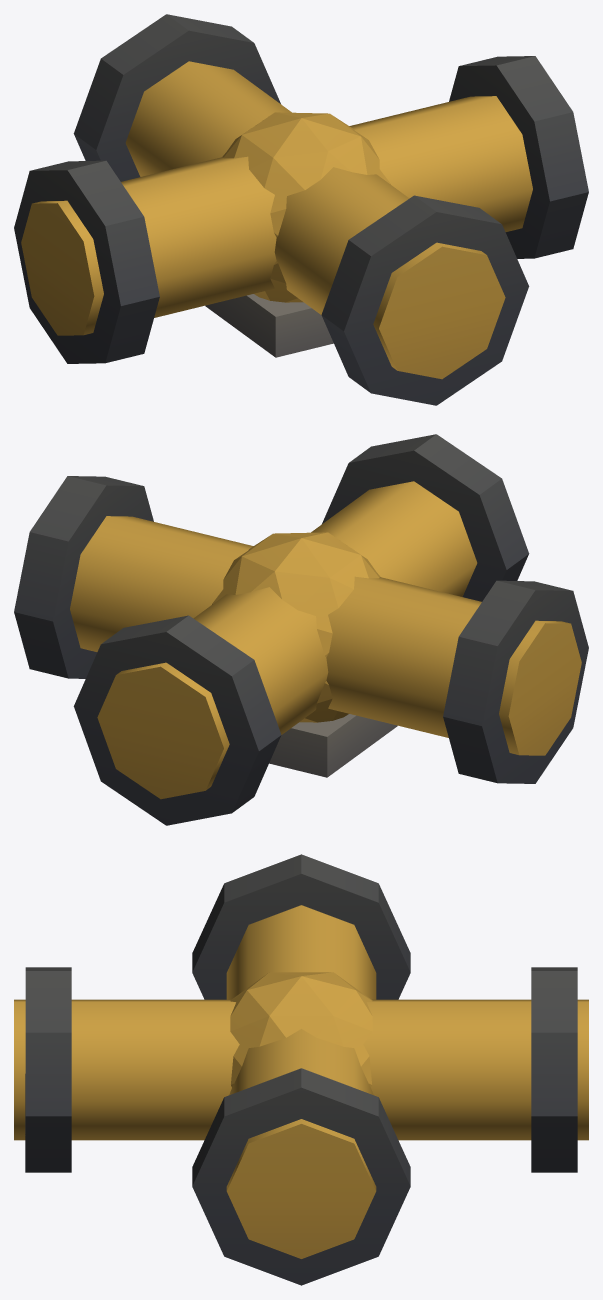
File: logi_pipe_straight.glb
The picture shows the model from 3 angles, top to bottom: view 1: azimuth 30°, elevation 25°; view 2: azimuth 150°, elevation 25°; view 3: azimuth 270°, elevation 25°; orthographic projection. The views are drawn at different scales.
Visible parts, largest first — view 1: logi_pipe_straight; view 2: logi_pipe_straight; view 3: logi_pipe_straight.
Part boxes in pixels (x1,y1,x2,y2): logi_pipe_straight: (14,14,588,405); logi_pipe_straight: (14,434,588,825); logi_pipe_straight: (14,854,588,1285).
Bounding box in the file's own units: 2 × 0.8 × 2.
Materials: 1 (1 with a texture image).
